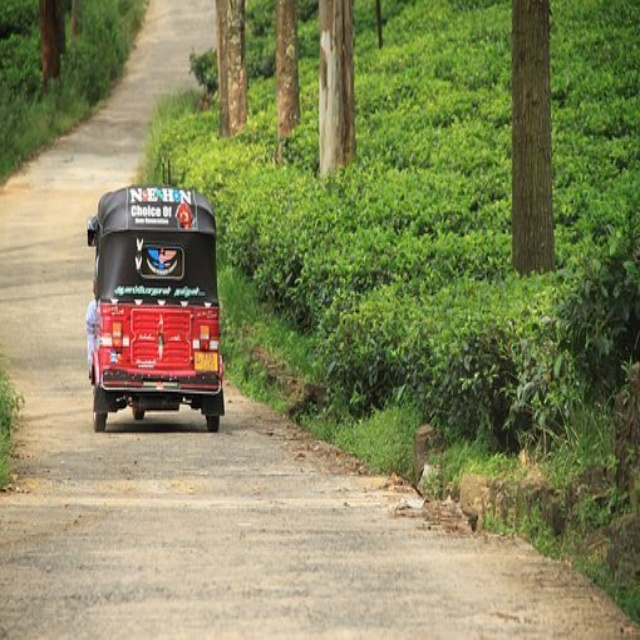Motorcycle: (85, 183, 227, 433)
